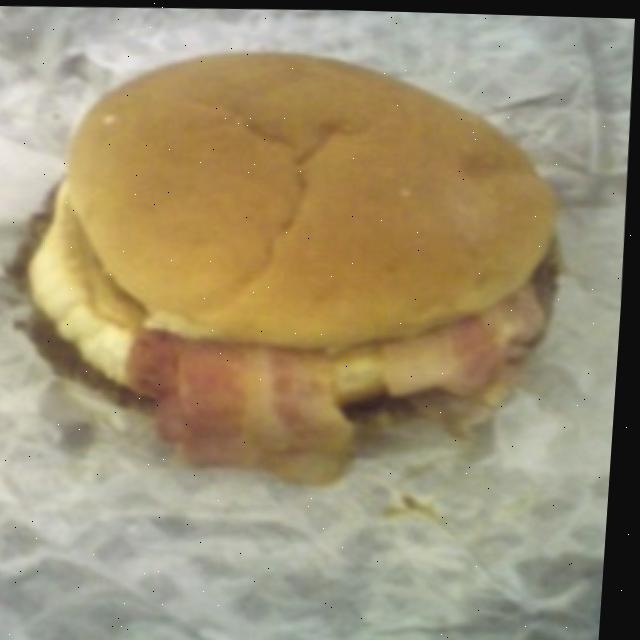汉堡快餐: (14, 22, 579, 439)
